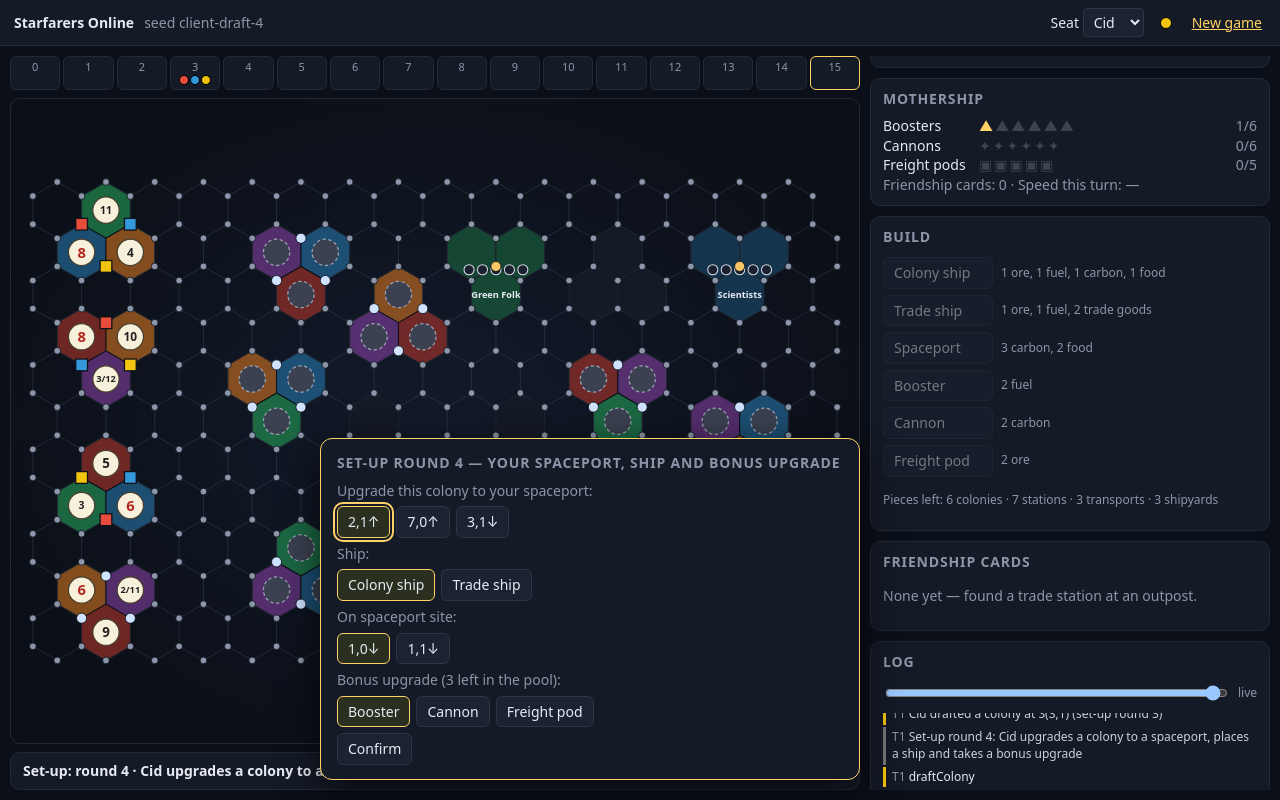
Test: playing the draft on the hot-seat game screen › round 4: the DraftPanel picks the spaceport, ship kind, site and upgrade and confirms one draftFinish
(page scrolled)
Expected: the text with test id "phase-label" shows "Set-up: round 4", [23, 761, 649, 781]
Expected: the dialog with test id "draft-panel" is shown, [320, 438, 860, 780]
Click the button "3,1↓": (483, 522) [456, 506, 509, 538]
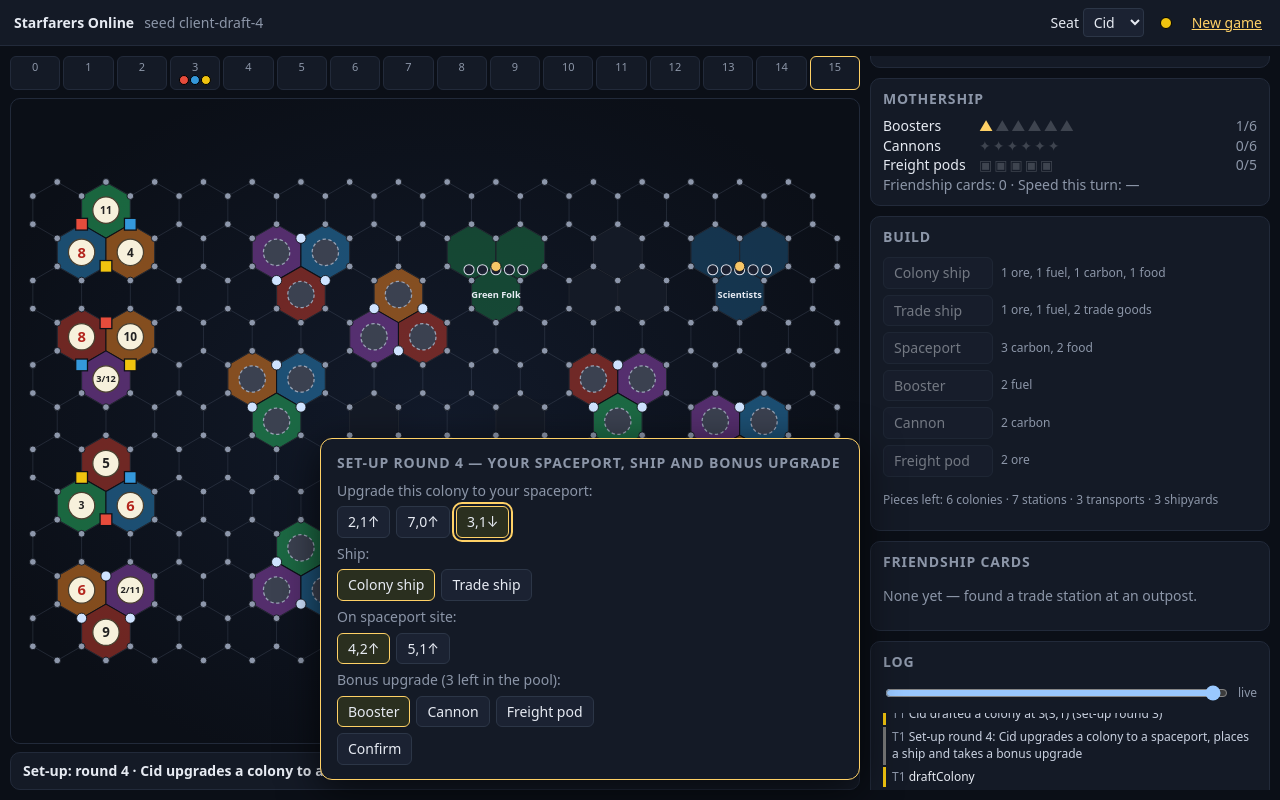
Click the button "5,1↑": (423, 648) [396, 633, 450, 664]
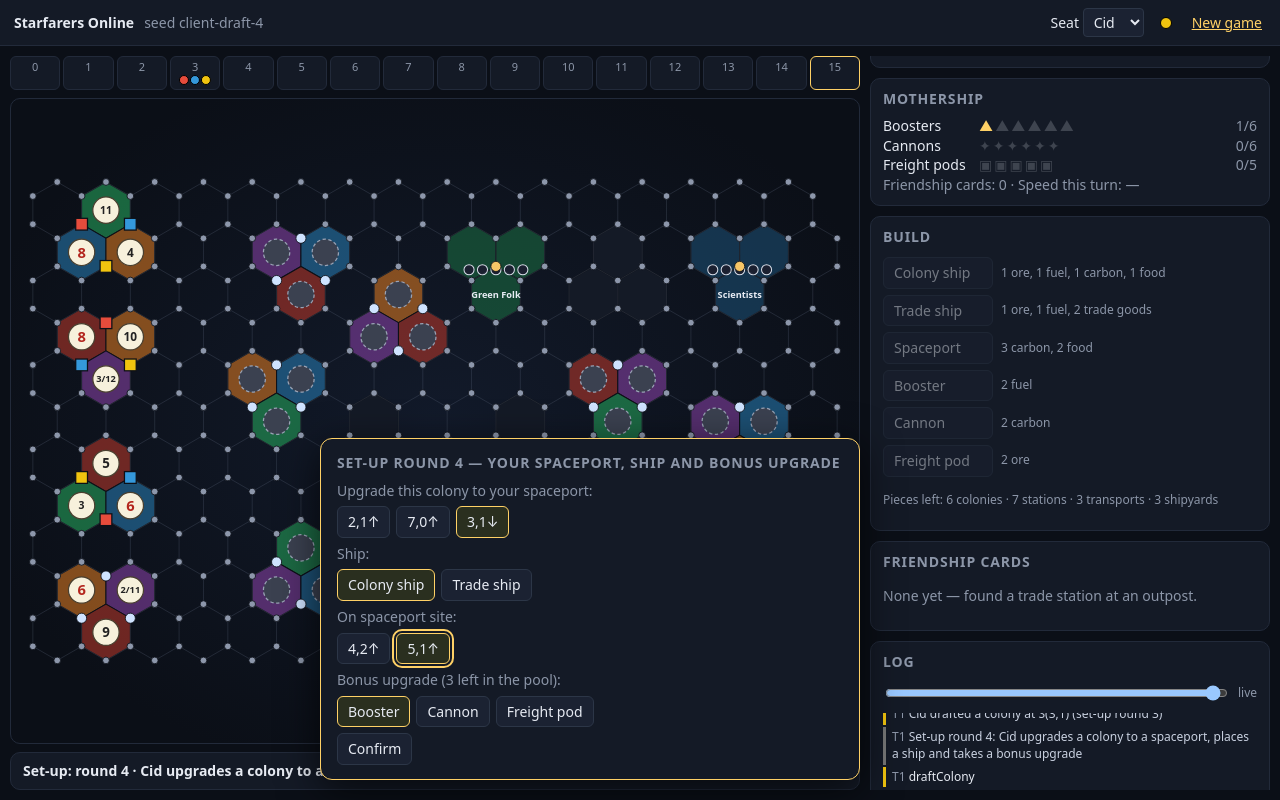
Click the button with test id "draft-ship-trade": (486, 585) [441, 569, 532, 601]
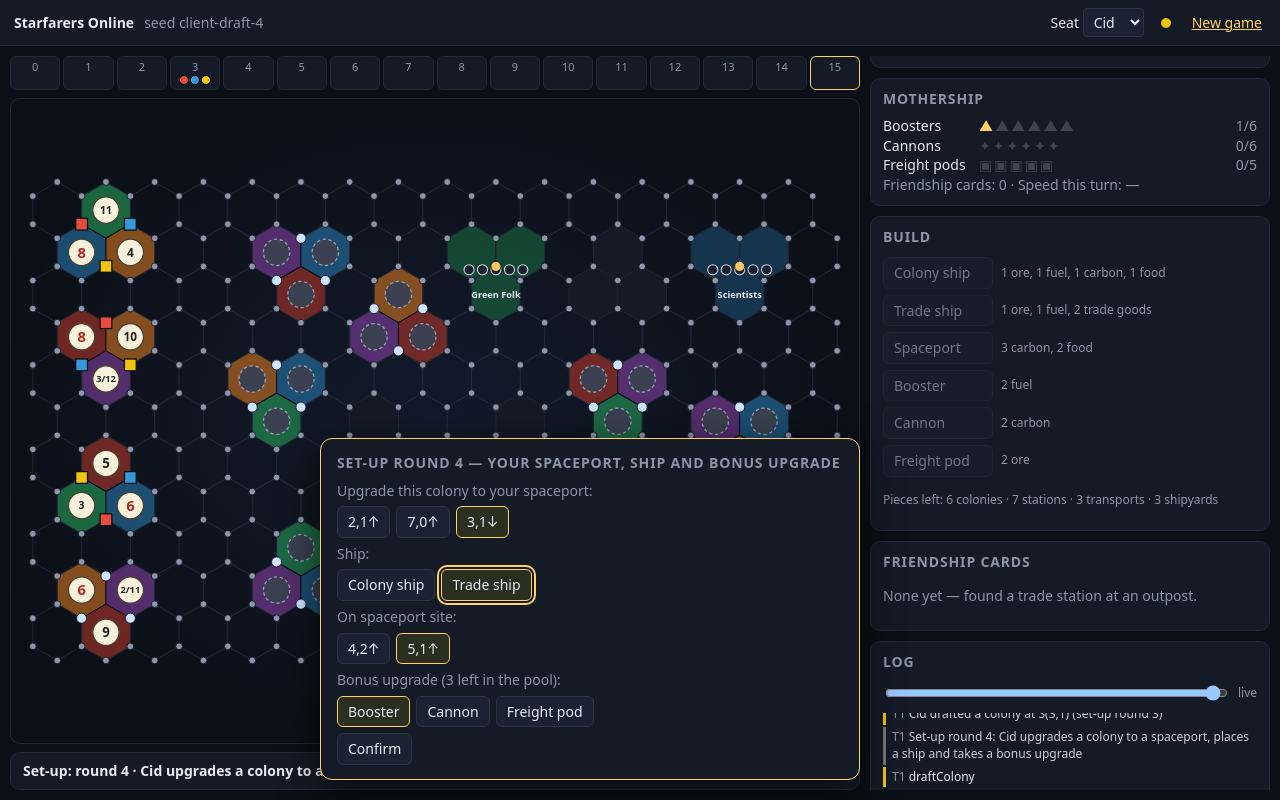
Expected: the button with test id "draft-upgrade-booster" reads "Booster", [337, 696, 410, 727]
Click the button with test id "draft-upgrade-cannon": (453, 712) [416, 696, 490, 727]
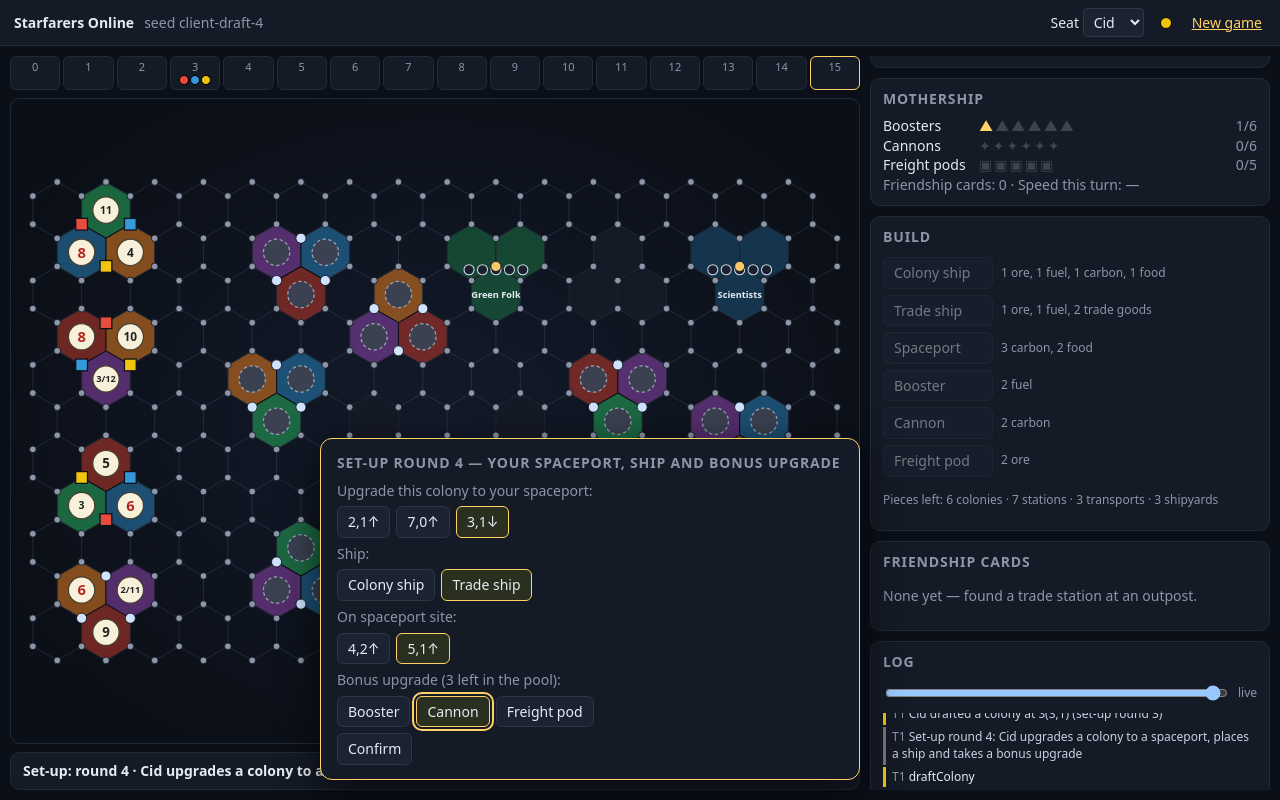
Click the button with test id "draft-confirm": (375, 749) [337, 733, 412, 765]
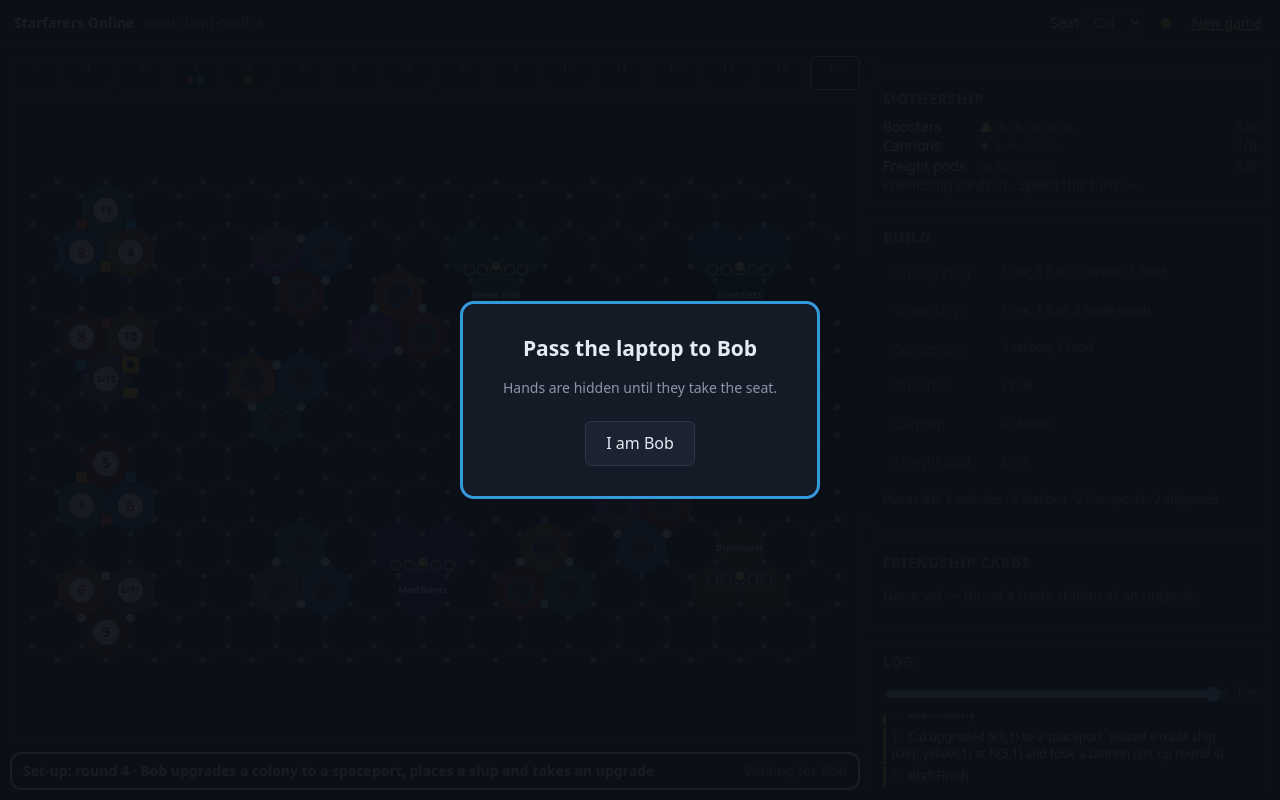
Expected: the dialog with test id "draft-panel" is gone
Click the button with test id "take-seat": (640, 444) [585, 421, 695, 466]
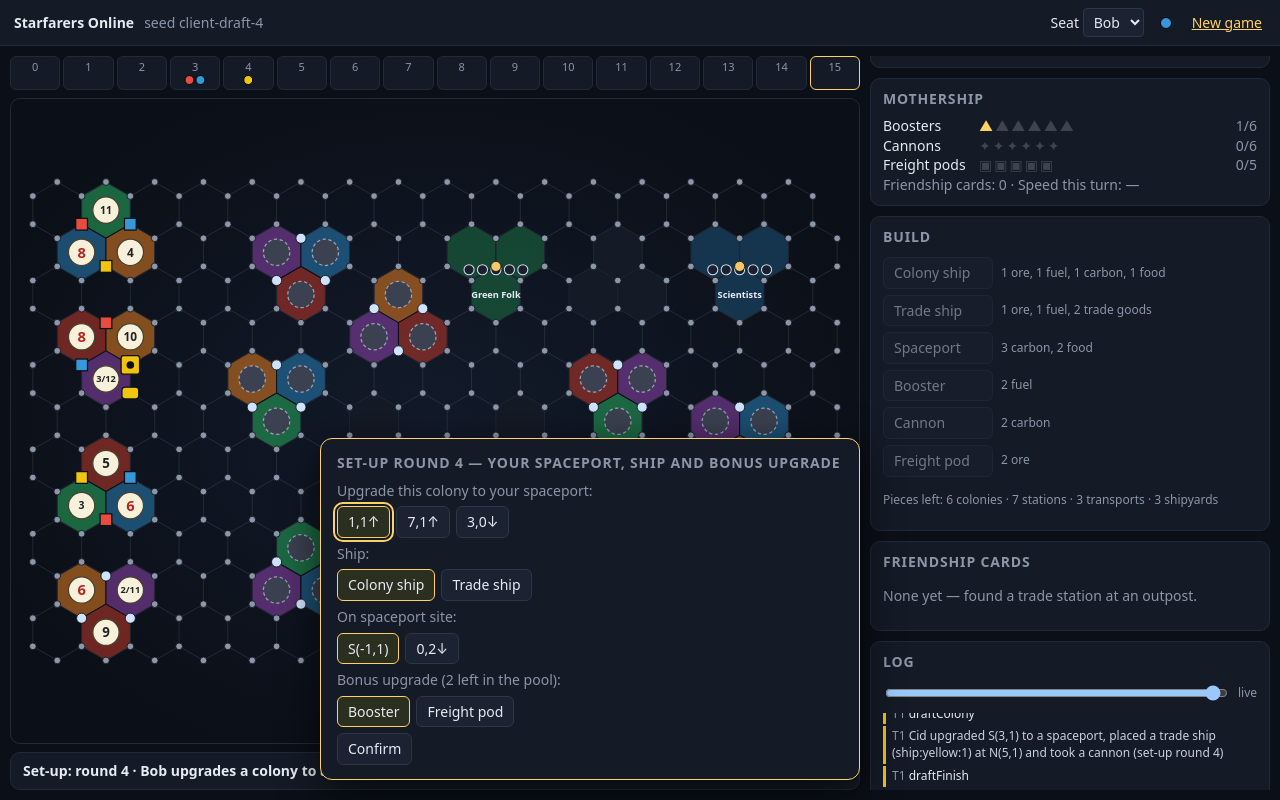
Expected: the dialog with test id "draft-panel" is shown, [320, 438, 860, 780]
